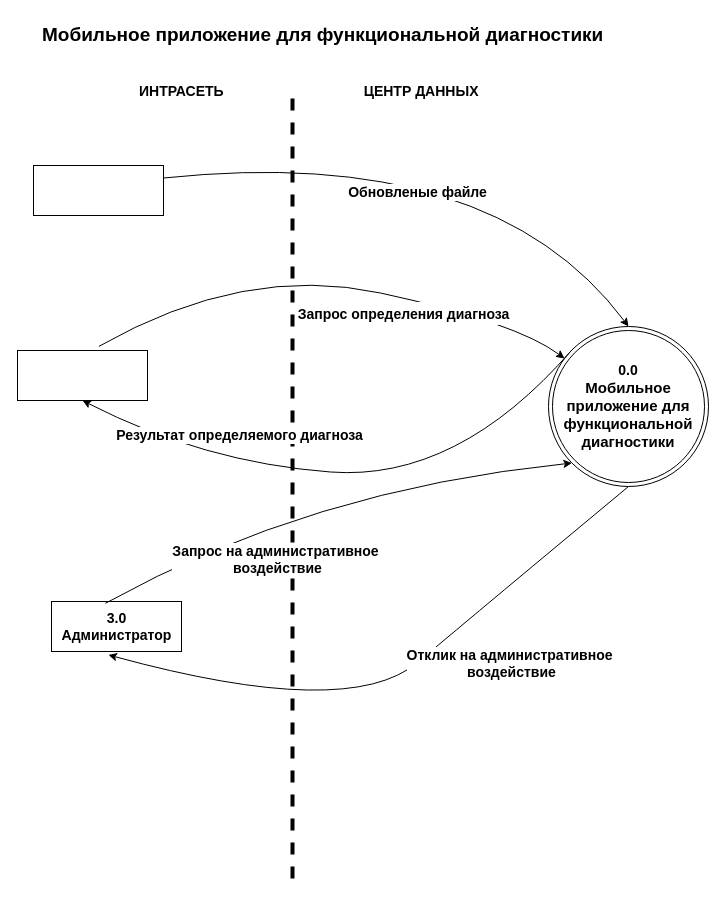
This 726x909 diagram has some shape labels left out. Here are the shapes that lost their labels. From the top down, the centre of each, then its label:
At point 98,190: "2.0 Мобильный разработчик".
At point 82,375: "1.0 Пользователь".
